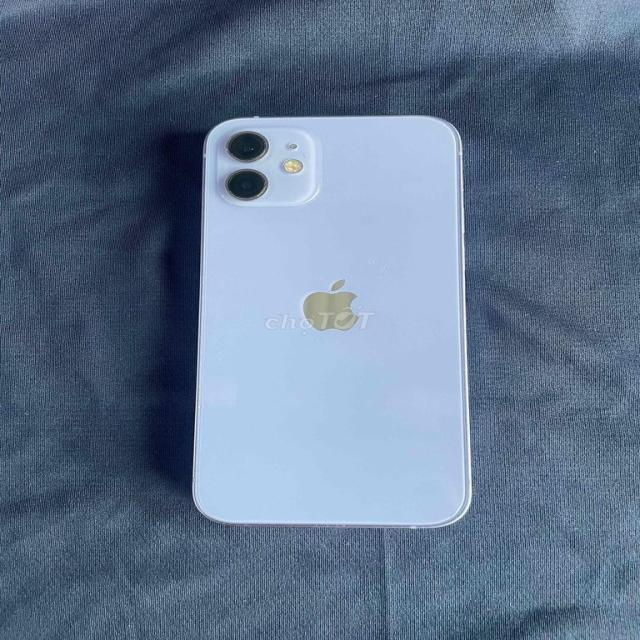gen_12_13: (194, 113, 481, 531)
